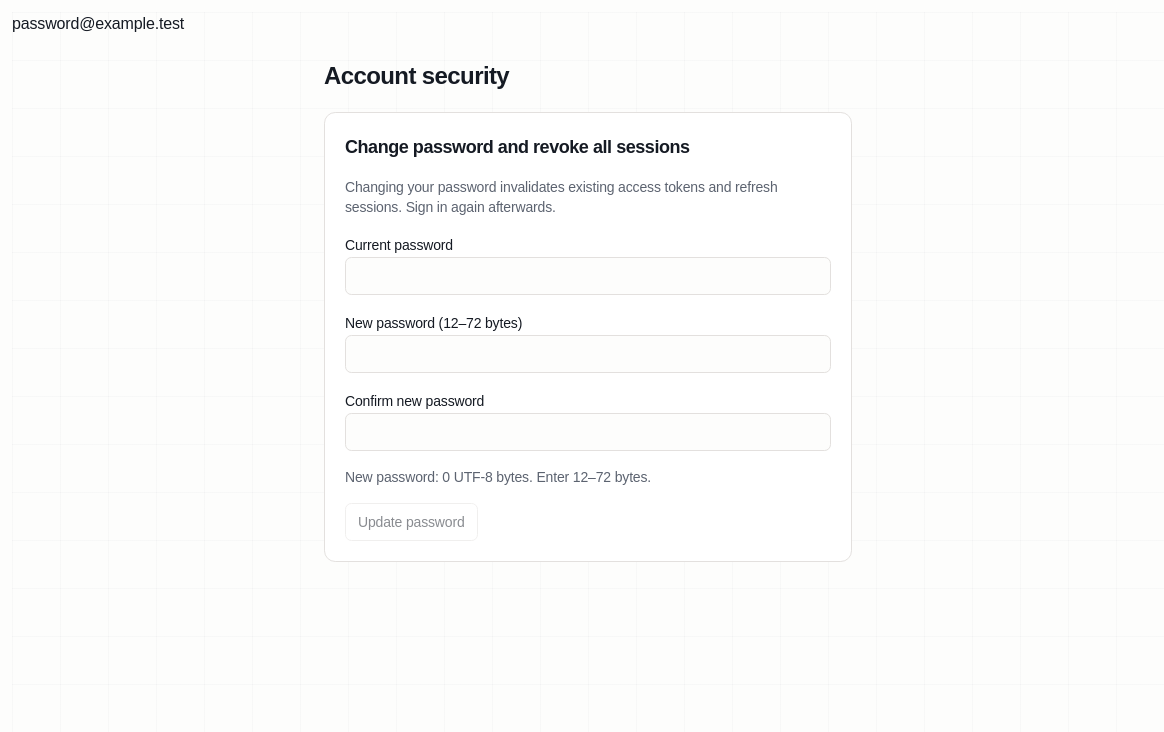
Test: password completion across the real provider's credential-clear remount › preserves a newer identity installed between the old clear and continuation
Check: the text with test id "current-identity" reads "password@example.test", box [12,15,184,32]
Type "synthetic-current-password" into the password field labelled "Current password".
click(588, 276); type("synthetic-current-password")  # box [345,257,831,295]
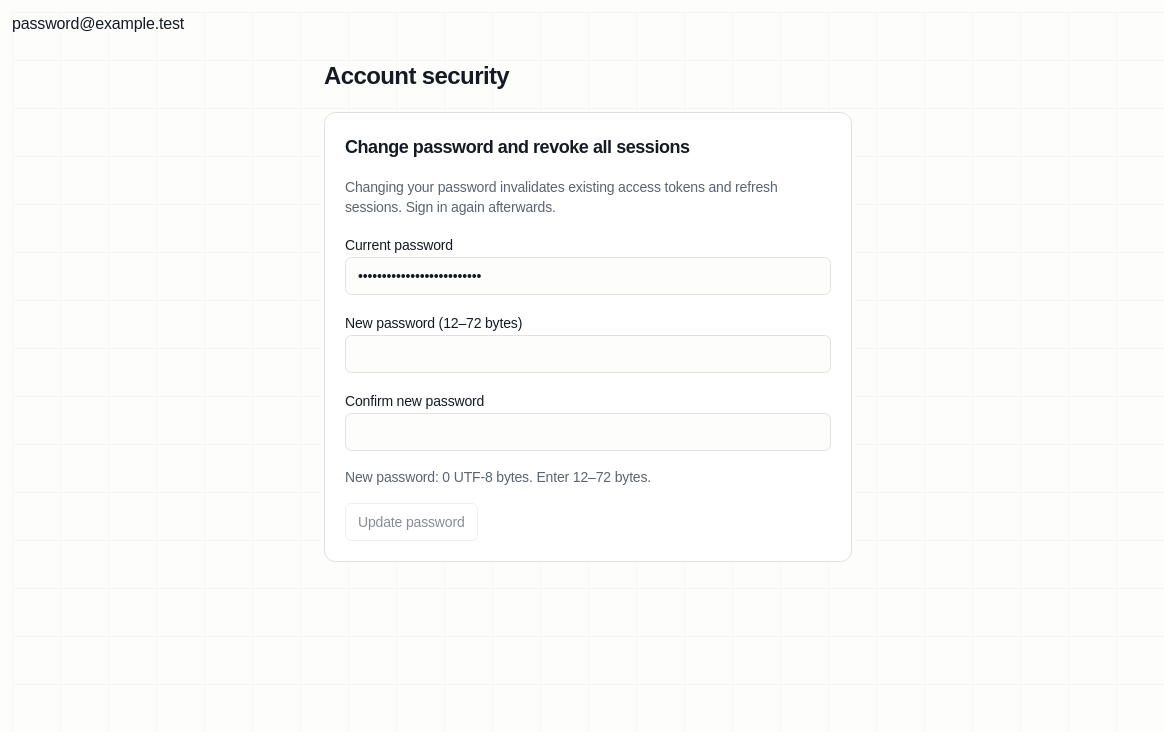
Type "synthetic-new-password" into the password field labelled "New password (12–72 bytes)".
click(588, 354); type("synthetic-new-password")  # box [345,335,831,373]
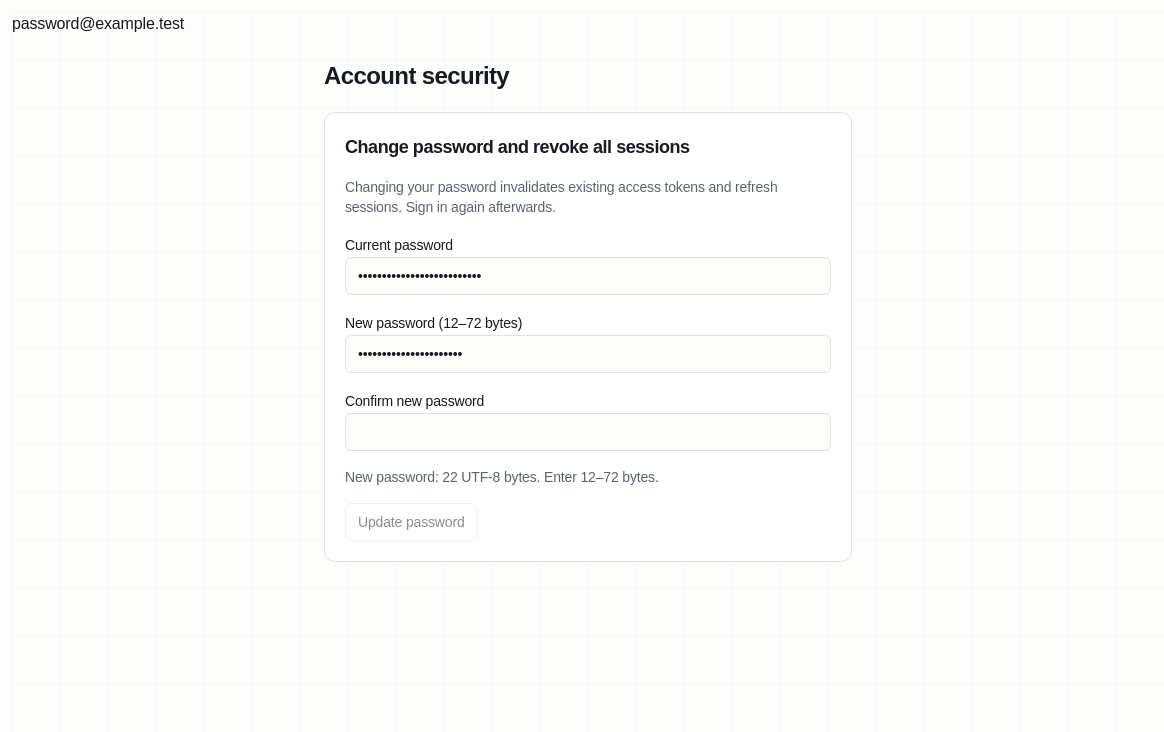
Type "synthetic-new-password" into the password field labelled "Confirm new password".
click(588, 432); type("synthetic-new-password")  # box [345,413,831,451]
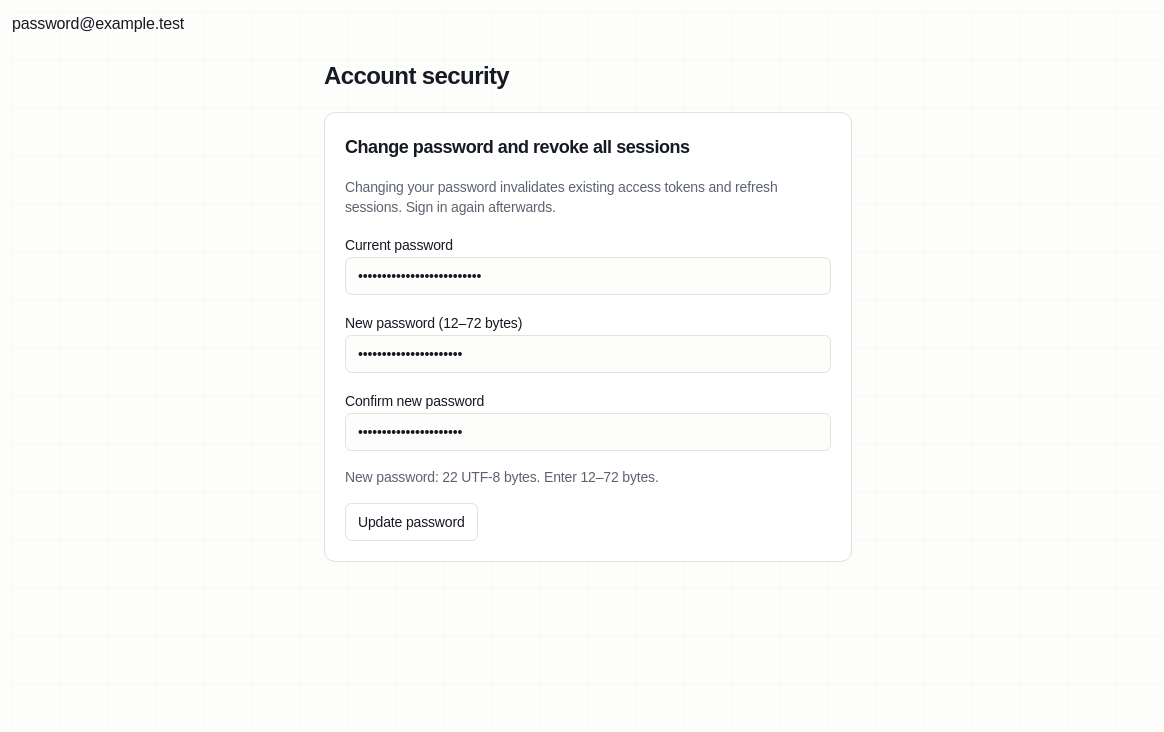
Click the button "Update password".
click(411, 522)  # box [345,503,478,541]
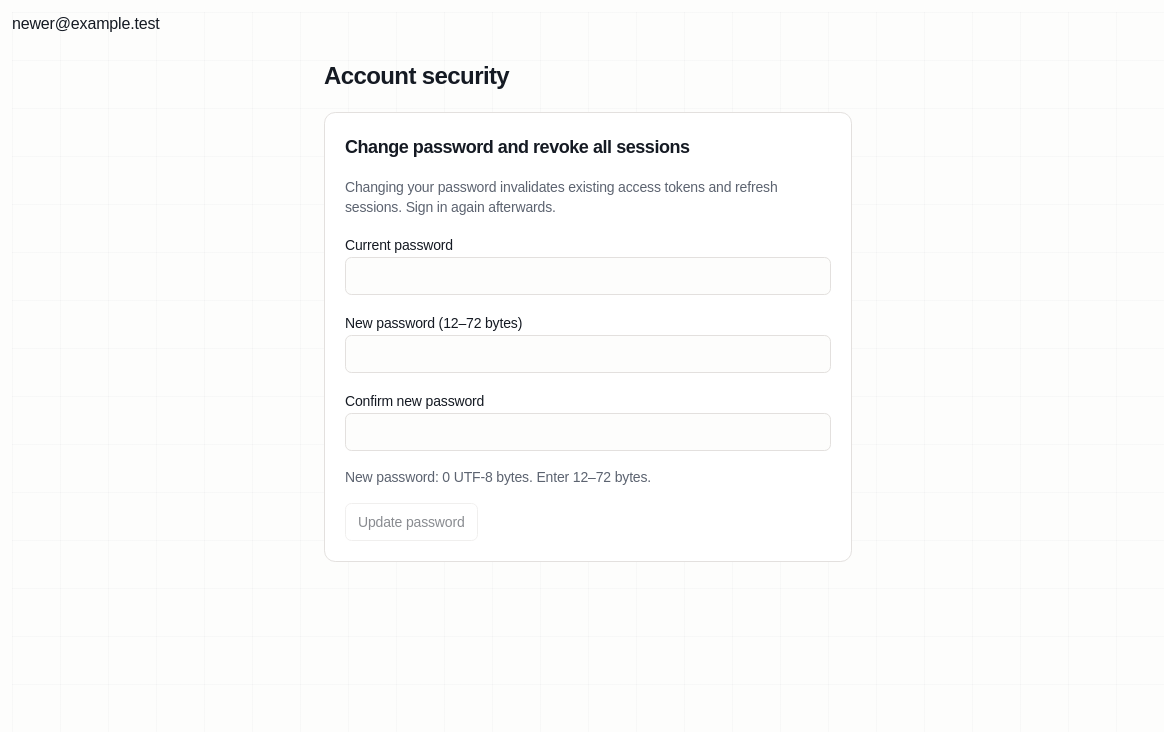
Check: the text with test id "current-identity" reads "newer@example.test", box [12,15,160,32]
